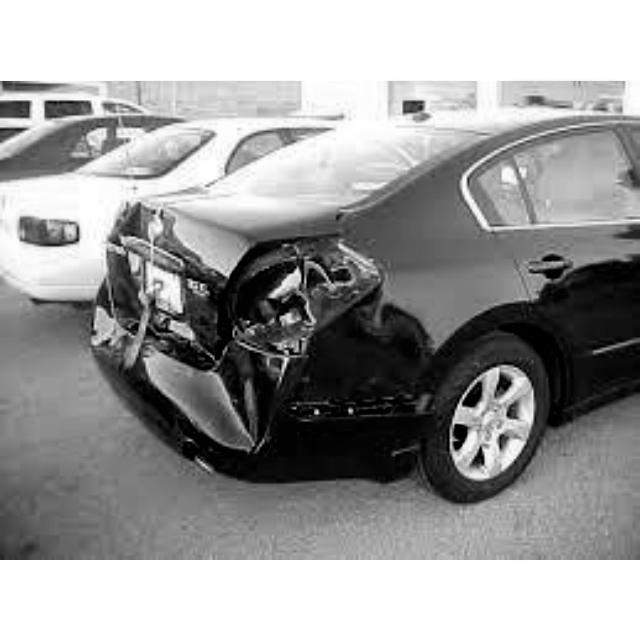boot-dent: (114, 184, 319, 342)
quaterpanel-dent: (347, 236, 470, 394)
rear-bumper-dent: (114, 332, 331, 472)
